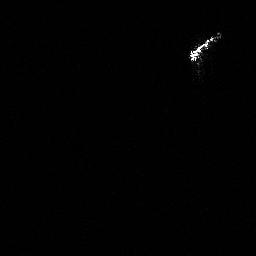ship: (185, 30, 225, 63)
